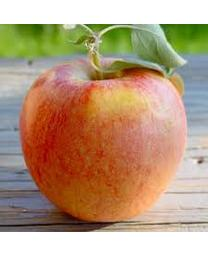apple: (18, 41, 188, 222)
